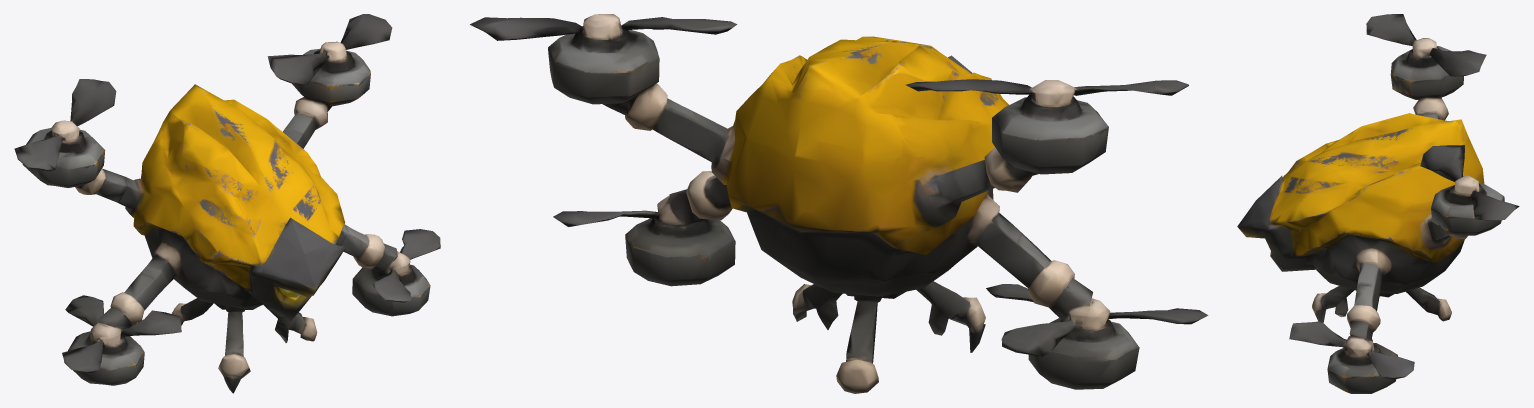
File: bomb_drone.glb
3 views of the same model, side by side, from view 1: azimuth 30°, elevation 25°; view 2: azimuth 150°, elevation 25°; view 3: azimuth 270°, elevation 25° (orthographic). The views are drawn at different scales.
Parts seen in each view (by area): view 1: tripo_node_d10d4958-ca4e-4ab8-85c8-0a6ffc084dff; view 2: tripo_node_d10d4958-ca4e-4ab8-85c8-0a6ffc084dff; view 3: tripo_node_d10d4958-ca4e-4ab8-85c8-0a6ffc084dff.
Part boxes in pixels (bbox=[...]): tripo_node_d10d4958-ca4e-4ab8-85c8-0a6ffc084dff: bbox=[14, 14, 440, 393]; tripo_node_d10d4958-ca4e-4ab8-85c8-0a6ffc084dff: bbox=[470, 14, 1208, 393]; tripo_node_d10d4958-ca4e-4ab8-85c8-0a6ffc084dff: bbox=[1237, 14, 1519, 393].
Size of the model in its own units: 1 by 0.5878 by 0.6147.
1 material, 1 textured.
